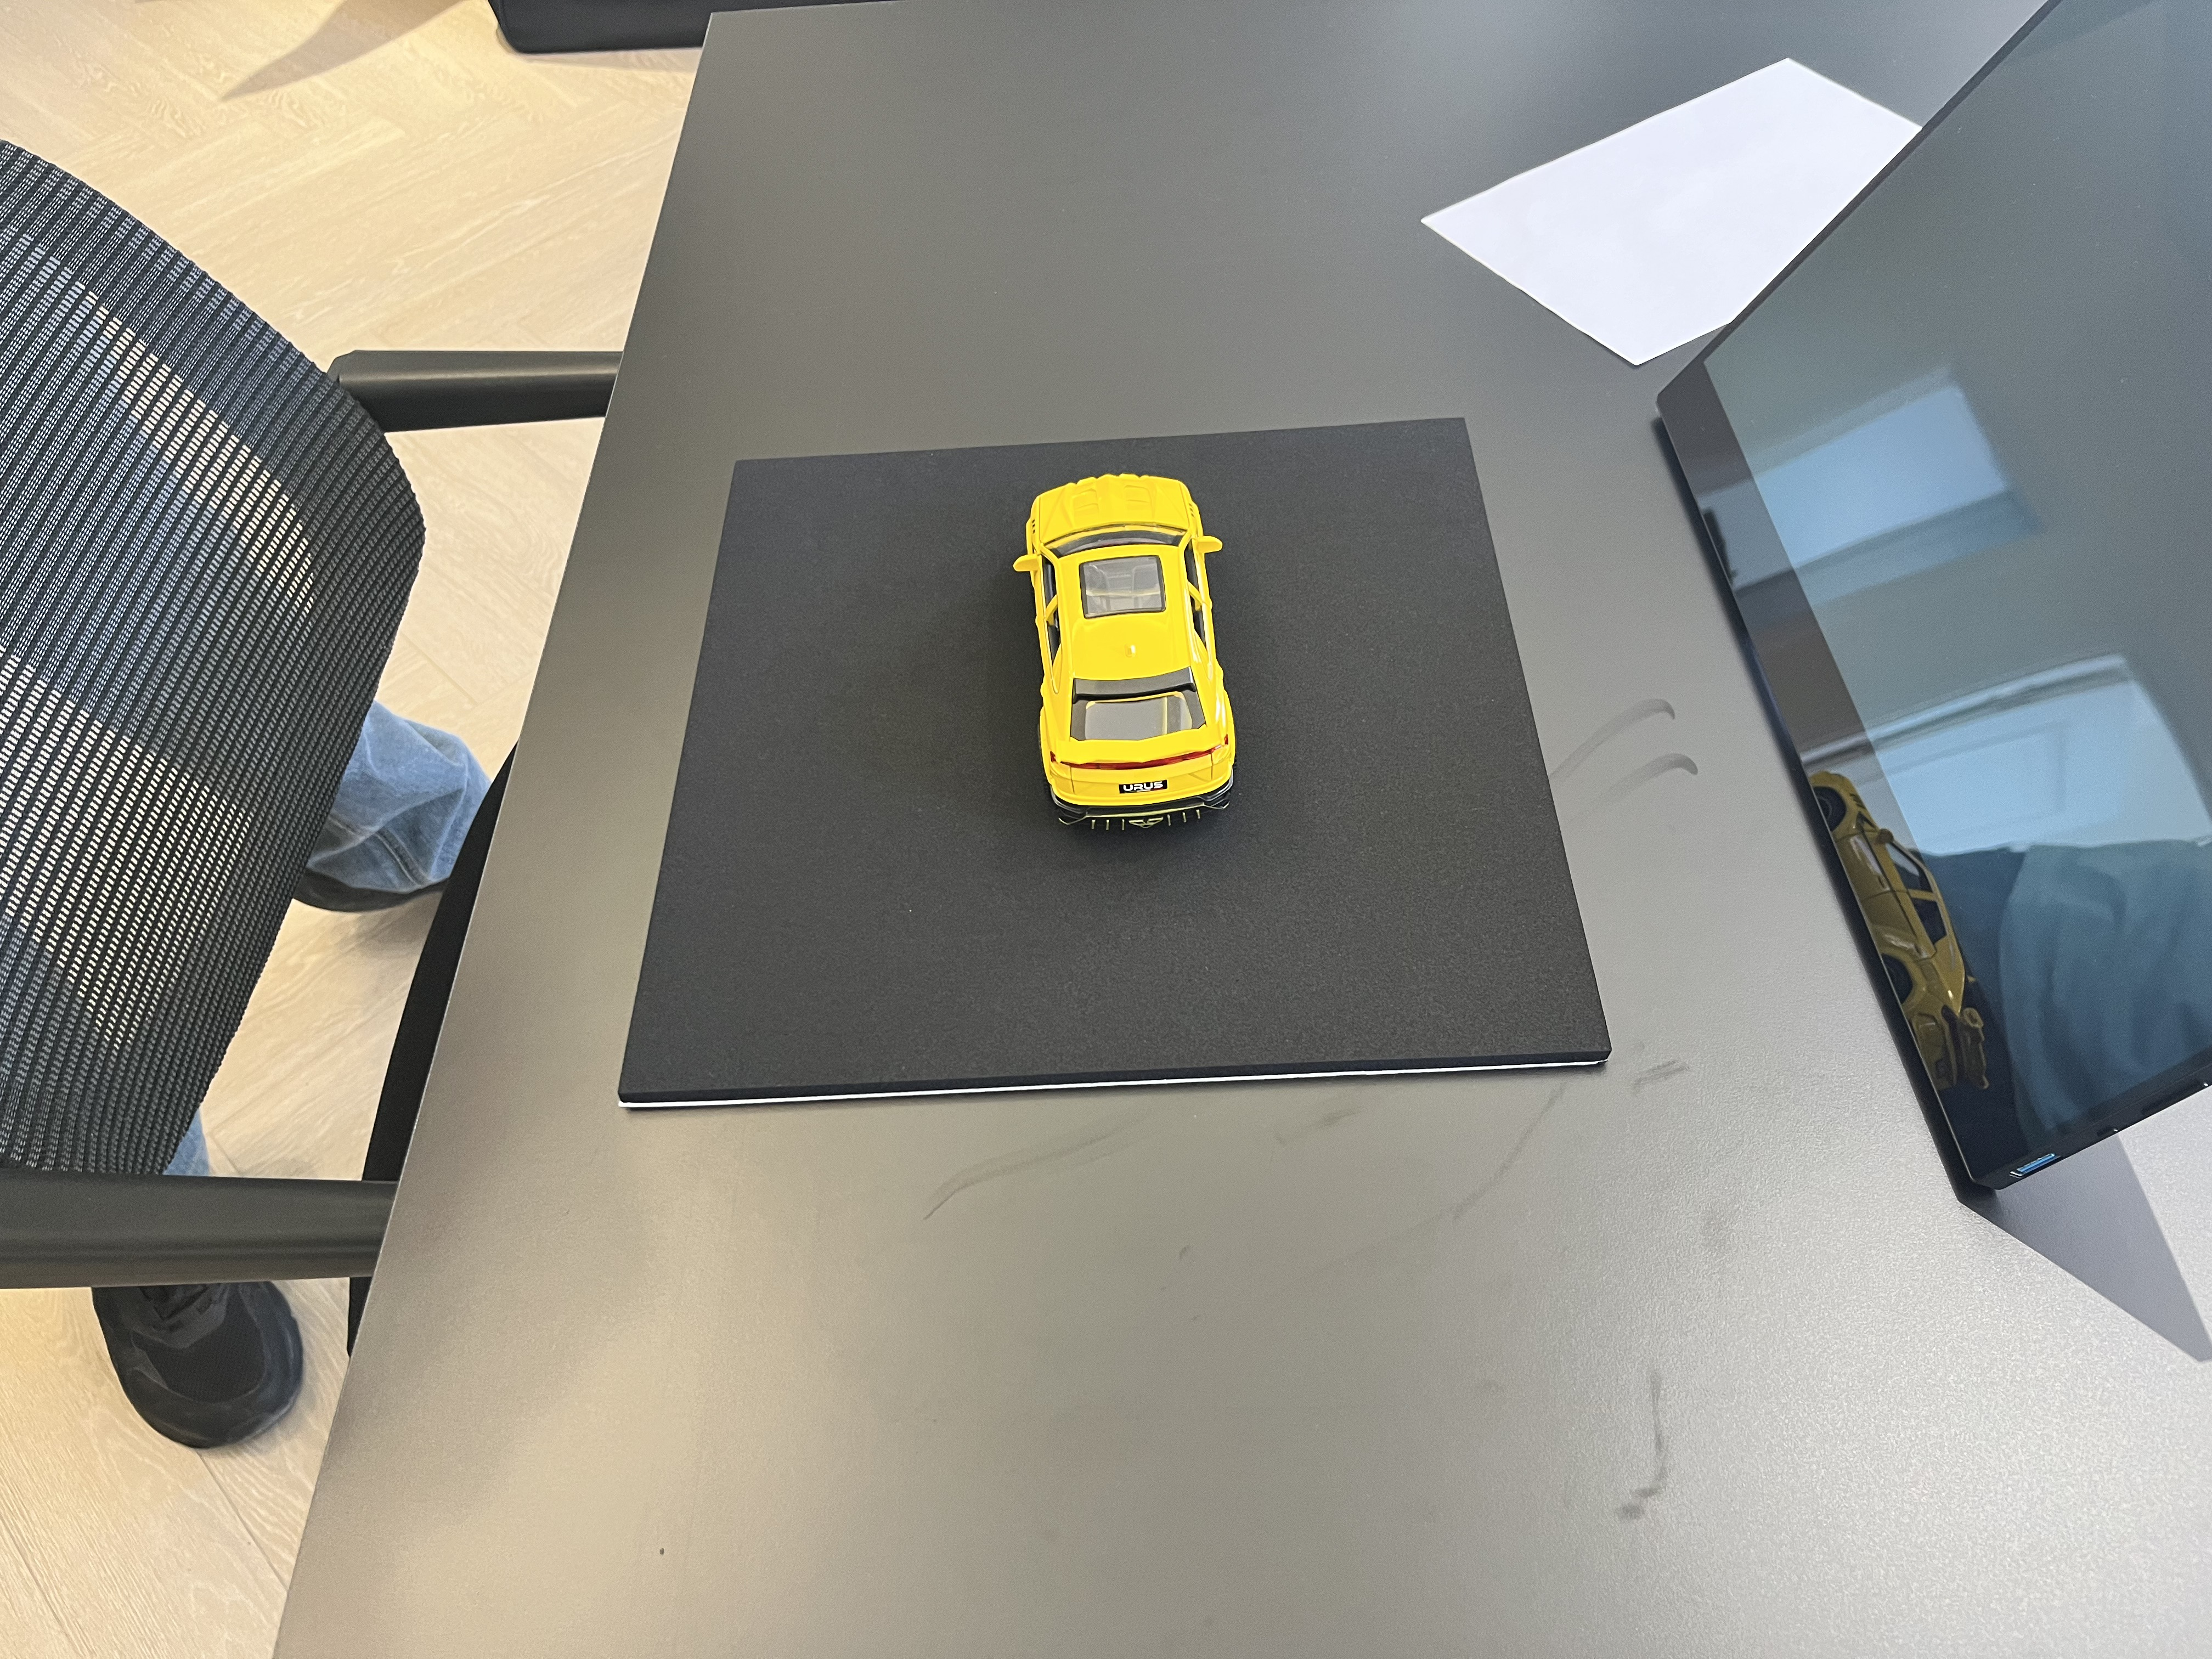lambo: (1012, 476, 1237, 833)
